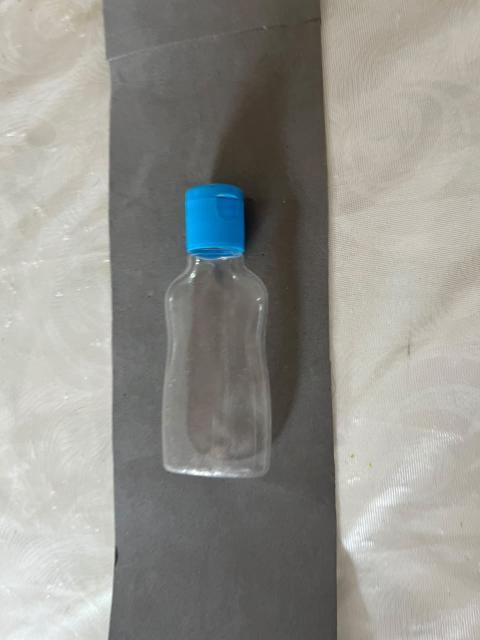PET: (138, 155, 300, 515)
